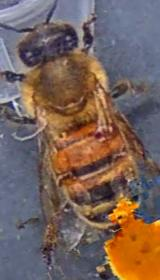varroa_mite: (84, 115, 120, 142)
